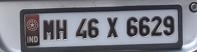2: (151, 16, 163, 37)
4: (74, 18, 89, 41)
6: (87, 18, 102, 39), (126, 17, 139, 37), (139, 17, 151, 37)
9: (163, 16, 176, 37)
H: (55, 18, 70, 42)
M: (41, 18, 56, 41)
X: (104, 15, 121, 40)
